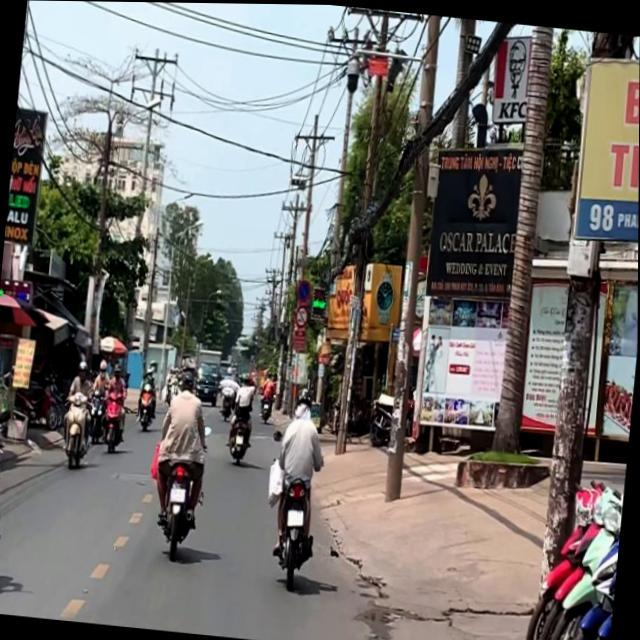Cam do xe: (296, 277, 311, 302)
